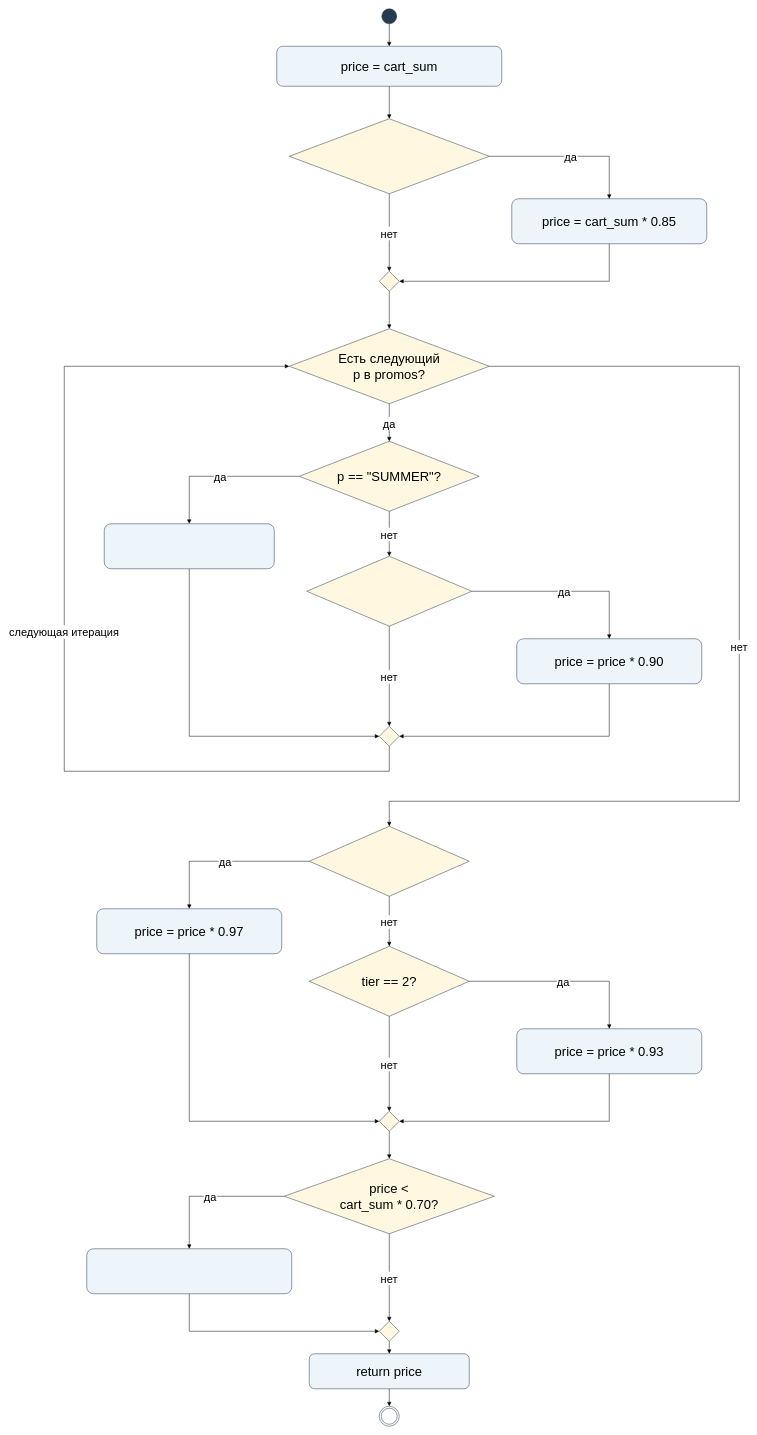
The diagram is 757 pixels wide and 1435 high, and some of its shapes have lost their labels. Here are the shapes that lost their labels. From the top down, the box of each, then its label:
(289, 118, 489, 194): cart_sum > 15000?
(104, 523, 274, 569): price = price - 500
(306, 556, 472, 626): p == "VIP"?
(309, 826, 469, 896): tier == 1?
(86, 1248, 292, 1294): price = cart_sum * 0.70
